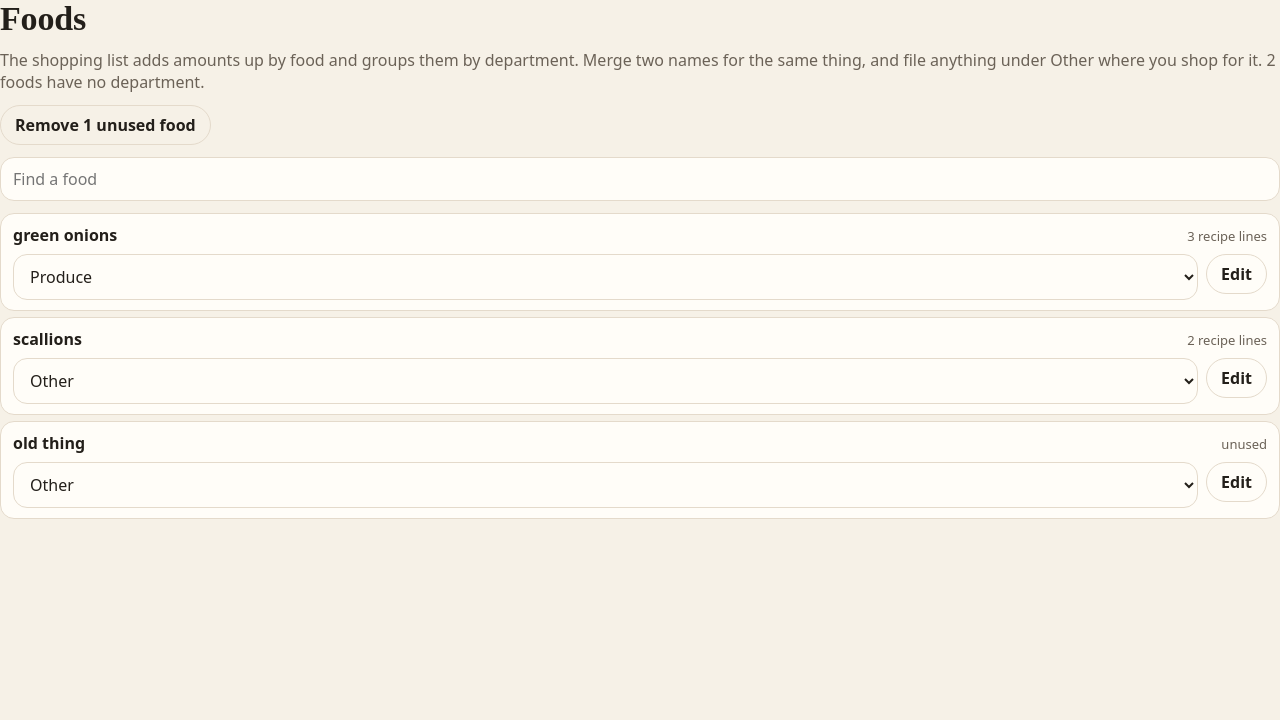
Test case: Foods › turns a rename onto a taken name into an offer to merge
Click the button "Edit" below "2 recipe lines" at (1237, 378), box [1206,358,1267,398]
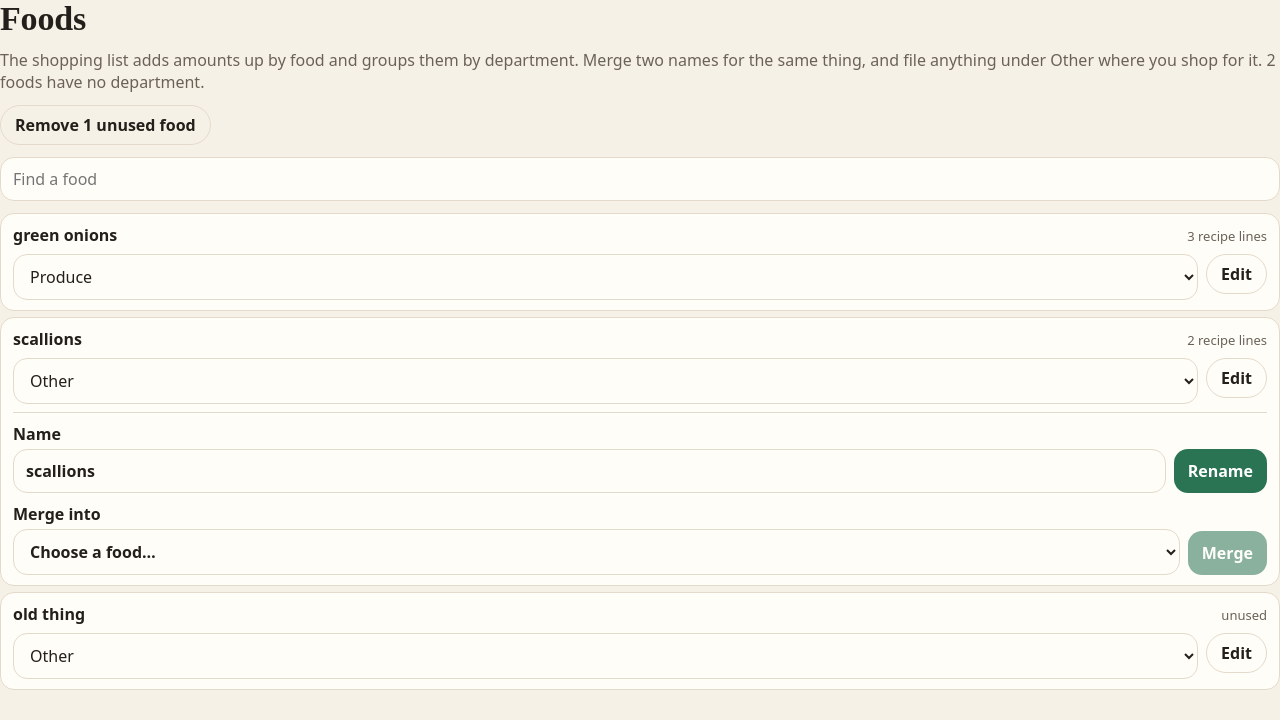
Replace the text in the field labelled "Name" with "Green Onions" at (589, 471), box [13,449,1166,493]
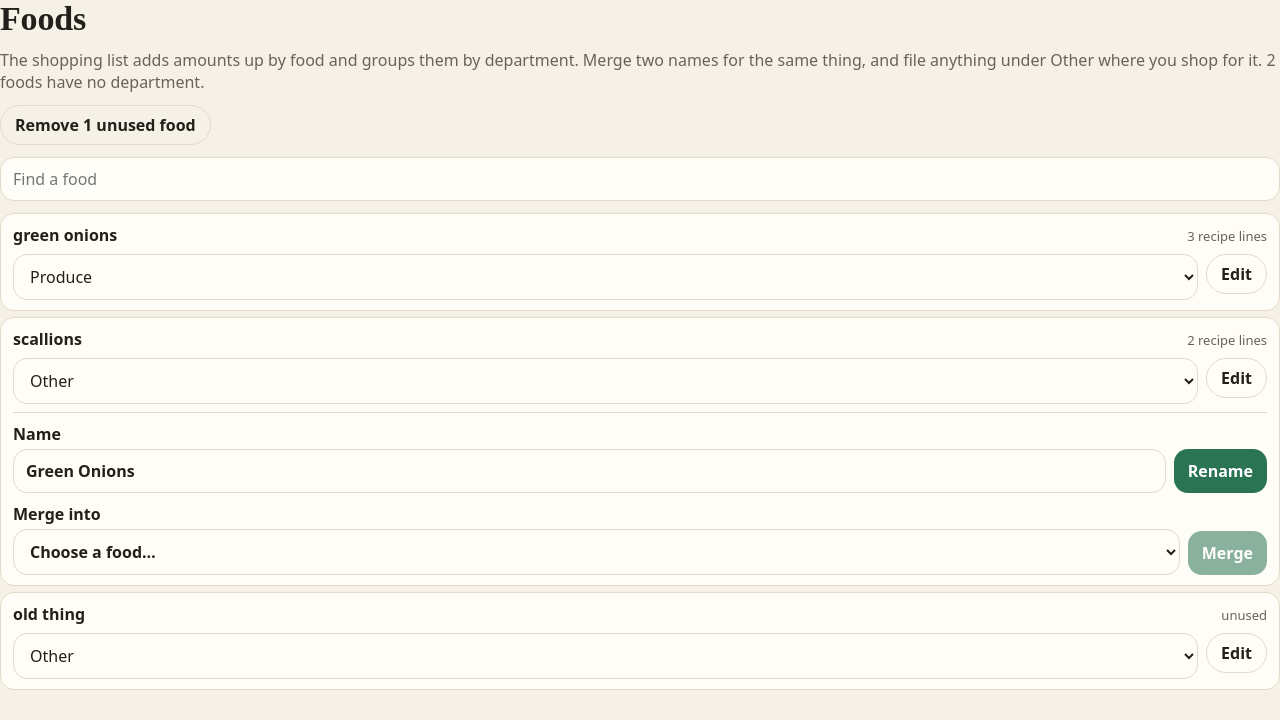
Click the button "Rename" at (1220, 471), box [1174,449,1267,493]
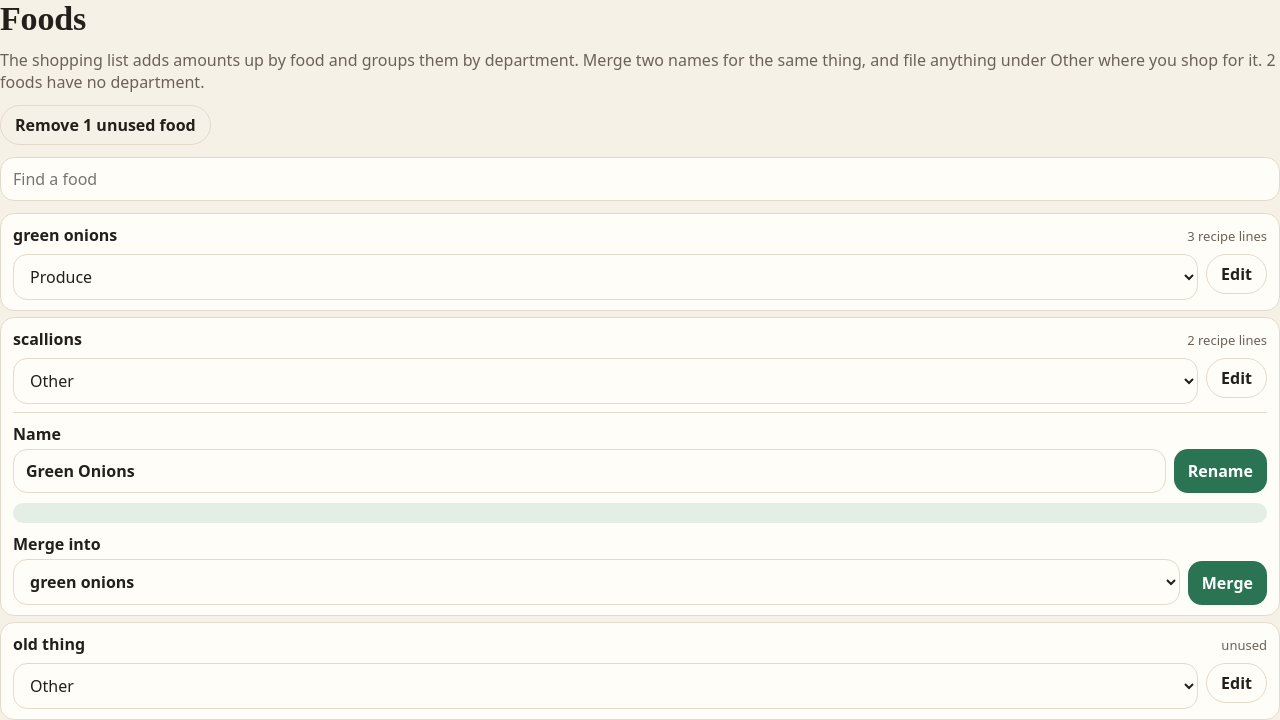
Result: the dropdown labelled "Merge into" shows "green onions" at [13,559,1180,605]
